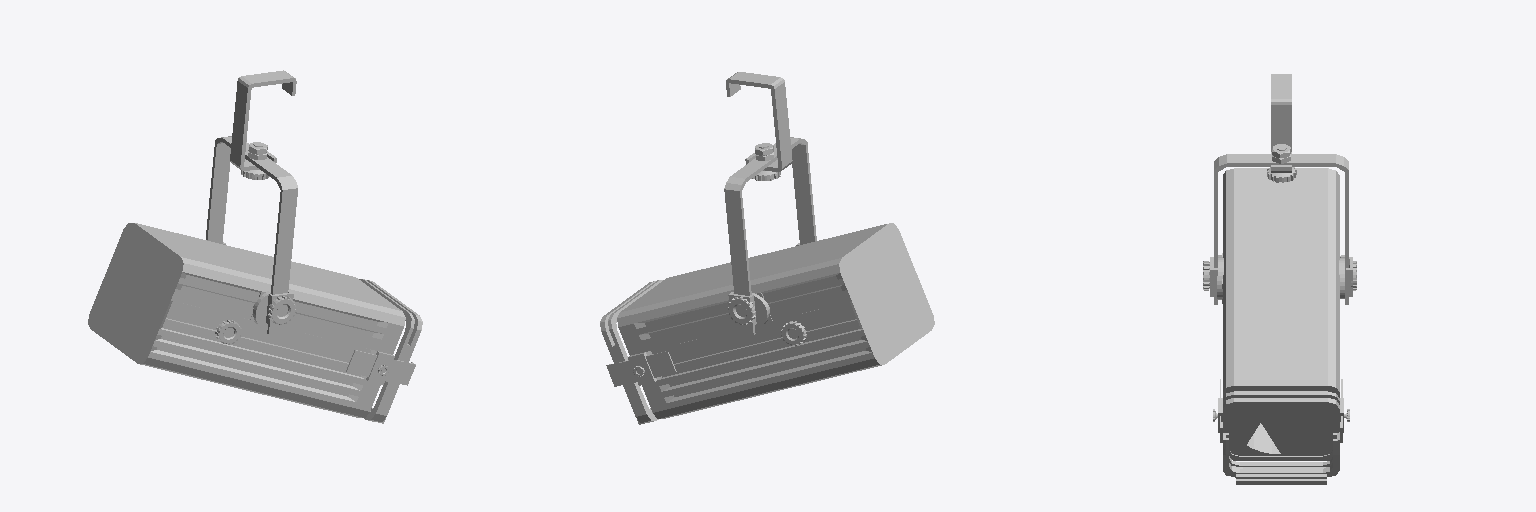
File: reflector.obj
The picture shows the model from 3 angles: view 1: azimuth 30°, elevation 25°; view 2: azimuth 150°, elevation 25°; view 3: azimuth 270°, elevation 25°; orthographic projection.
Parts seen in each view (by area): view 1: Cube_Cube.001, hanger_Cube.003; view 2: Cube_Cube.001, hanger_Cube.003; view 3: Cube_Cube.001, hanger_Cube.003.
Boxes of the visible parts, box(x1,y1,x2,y2) form: Cube_Cube.001: box(88, 223, 422, 423); hanger_Cube.003: box(206, 70, 297, 333); Cube_Cube.001: box(600, 223, 934, 424); hanger_Cube.003: box(724, 72, 816, 335); Cube_Cube.001: box(1213, 168, 1349, 484); hanger_Cube.003: box(1203, 74, 1356, 304).
Bounding box in the file's own units: 5.55 × 6.67 × 2.61.